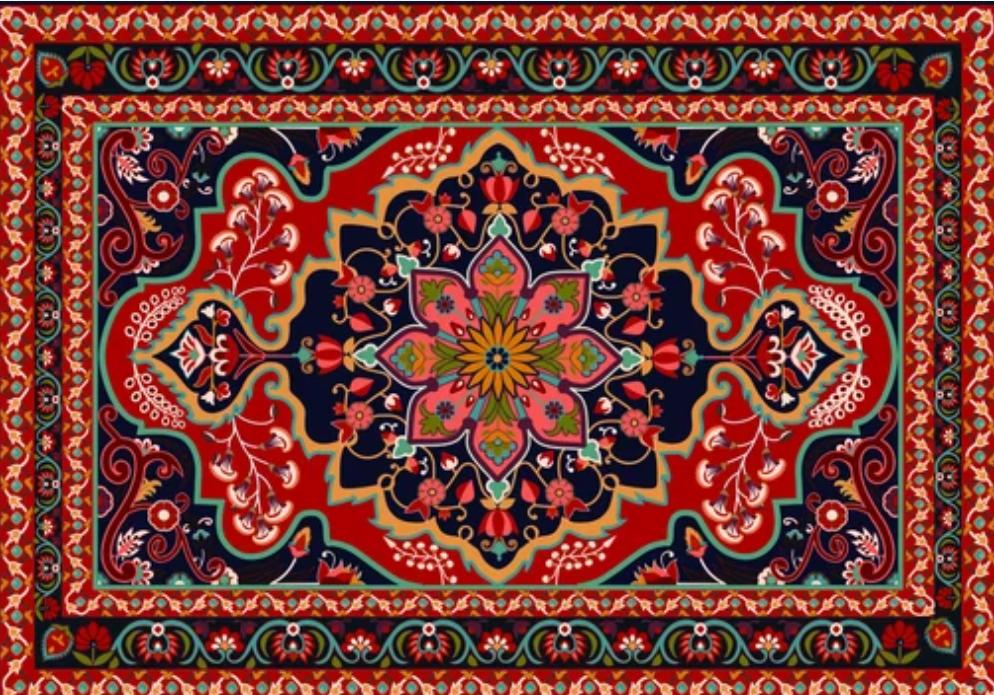carpet: (0, 5, 994, 691)
